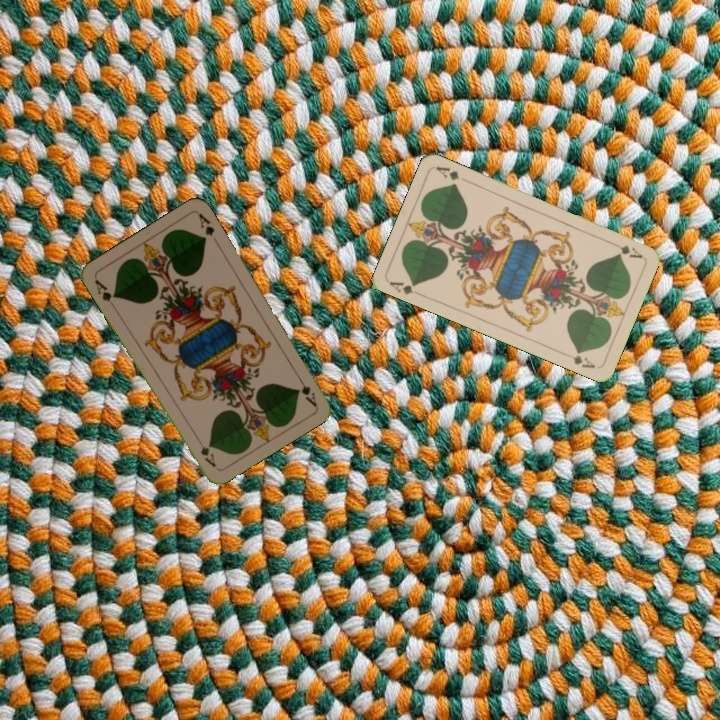GA: (293, 371, 319, 409), (385, 277, 425, 299), (607, 238, 645, 261), (90, 275, 119, 304)
